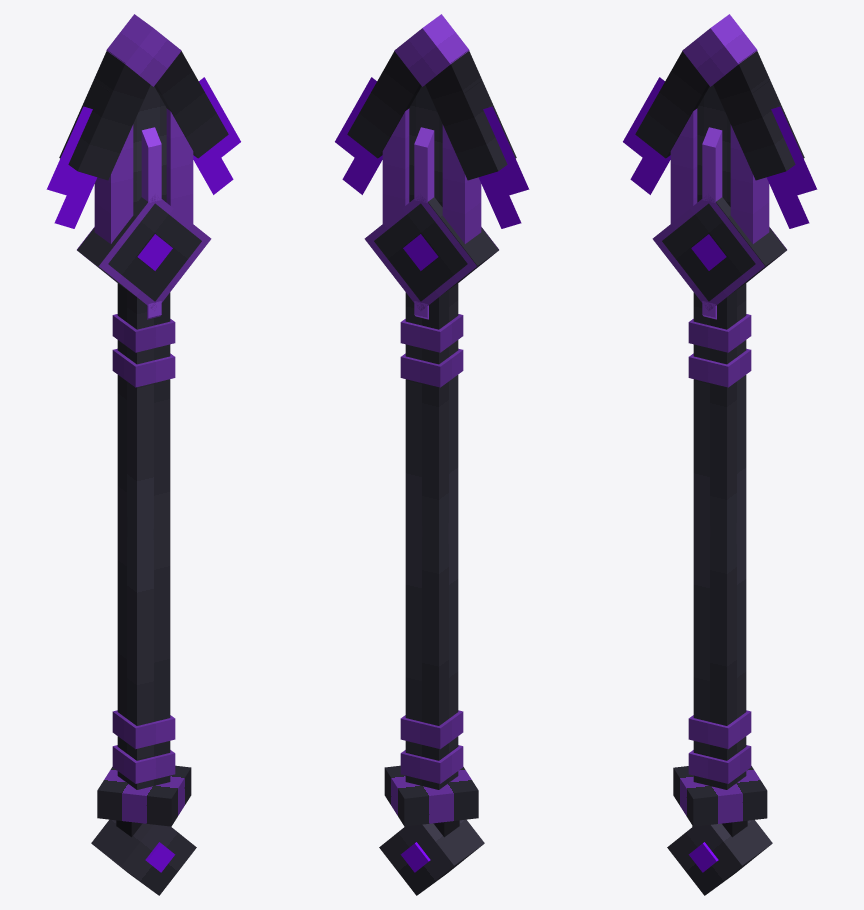
File: void_spear.obj
3 renders of one model, left to right at view 1: azimuth 30°, elevation 25°; view 2: azimuth 150°, elevation 25°; view 3: azimuth 330°, elevation 25°, orthographic.
Parts seen in each view (by area): view 1: cube; view 2: cube; view 3: cube.
Part boxes in pixels (x1=…): cube: x1=46, y1=14, x2=240, y2=895; cube: x1=335, y1=14, x2=529, y2=895; cube: x1=623, y1=14, x2=817, y2=895.
Bounding box in the file's own units: 0.6096 × 1.94 × 0.221.
1 material, 1 textured.
